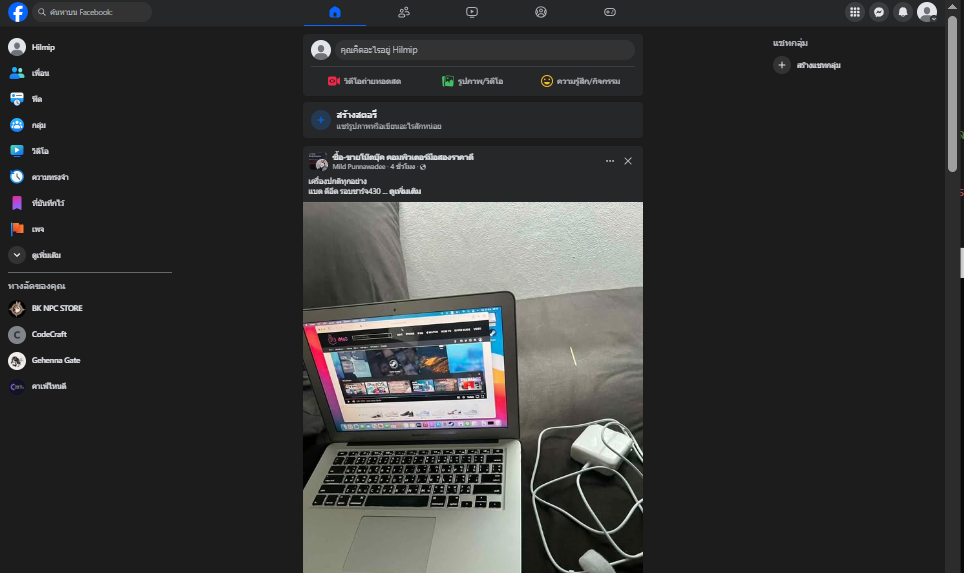topic: (300, 144, 647, 573)
